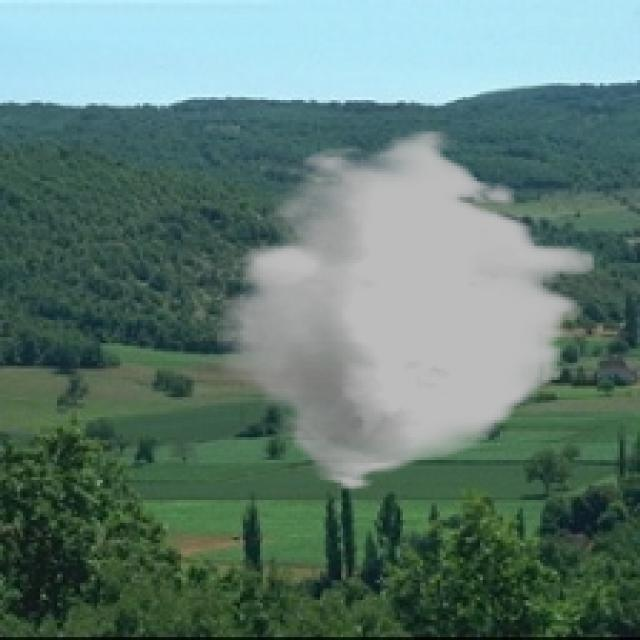smoke: (217, 128, 594, 492)
